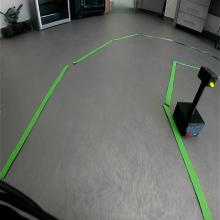green: (198, 66, 218, 88)
